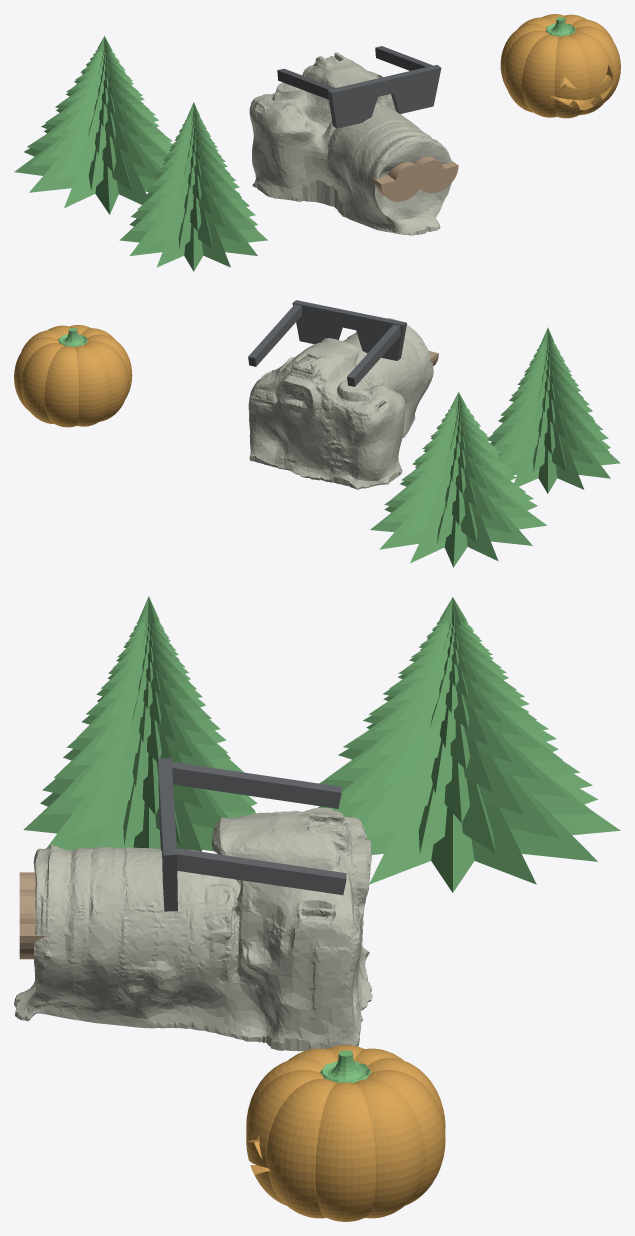
Rendered from canon_tinkercad.glb.
3 views of the same model, one above another, from view 1: azimuth 30°, elevation 25°; view 2: azimuth 150°, elevation 25°; view 3: azimuth 270°, elevation 25° (orthographic). The views are drawn at different scales.
Visible parts, largest first — view 1: Mesh_Mesh_head_geo.001_lambert2SG.001; view 2: Mesh_Mesh_head_geo.001_lambert2SG.001; view 3: Mesh_Mesh_head_geo.001_lambert2SG.001.
Part boxes in pixels (x1,y1,x2,y2): Mesh_Mesh_head_geo.001_lambert2SG.001: (14, 14, 620, 271); Mesh_Mesh_head_geo.001_lambert2SG.001: (14, 300, 620, 567); Mesh_Mesh_head_geo.001_lambert2SG.001: (14, 596, 620, 1221).
Size of the model in its own units: 158 by 41 by 89.35.
